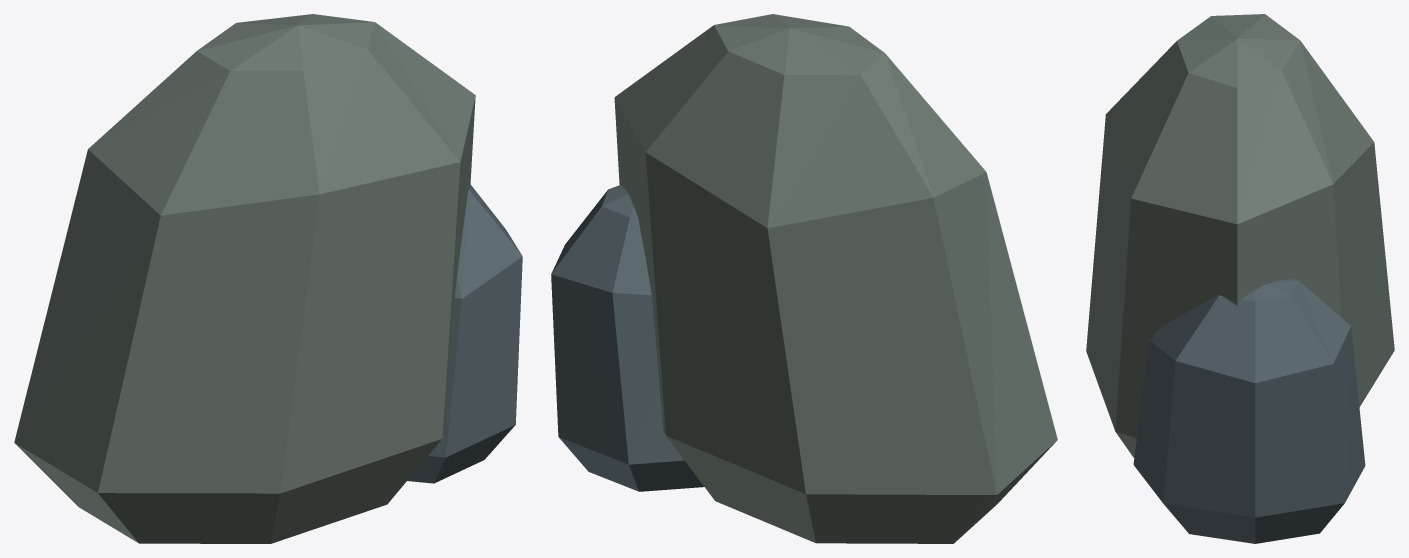
3 renders of one model, left to right at view 1: azimuth 30°, elevation 25°; view 2: azimuth 150°, elevation 25°; view 3: azimuth 270°, elevation 25°, orthographic. The views are drawn at different scales.
Visible parts, largest first — view 1: R16_狭长礁脊; view 2: R16_狭长礁脊; view 3: R16_狭长礁脊.
Part boxes in pixels (box(x1,y1,x2,y2)): R16_狭长礁脊: box(14, 14, 522, 543); R16_狭长礁脊: box(551, 14, 1057, 543); R16_狭长礁脊: box(1086, 14, 1394, 543).
Bounding box in the file's own units: 1.38 × 1.29 × 0.8565.
